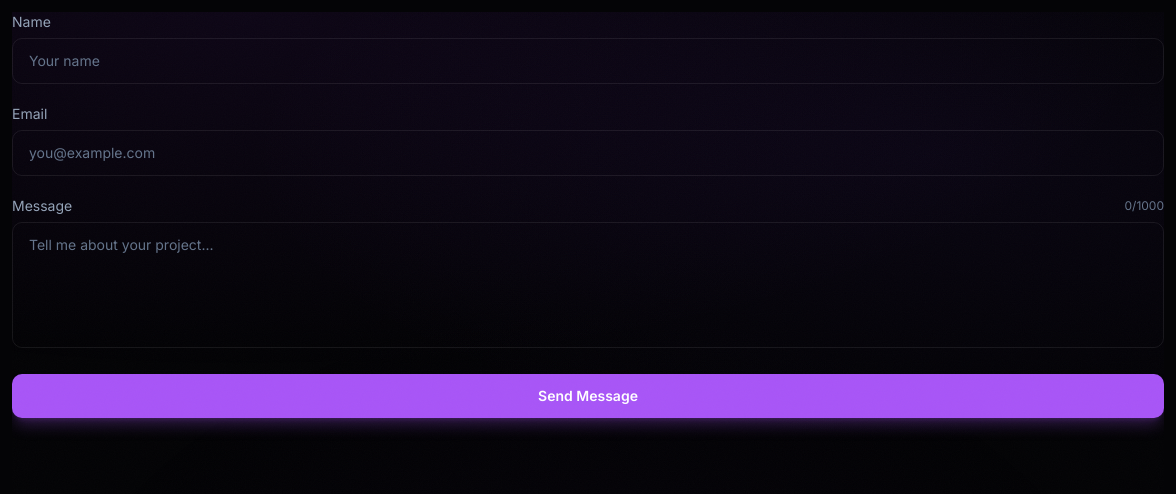
Test: ContactForm › shows validation error when email is empty on submit
The width and height of the screenshot is (1176, 494).
Type "Jane" into the field labelled "Name" at (588, 61), box [12,38,1164,84]
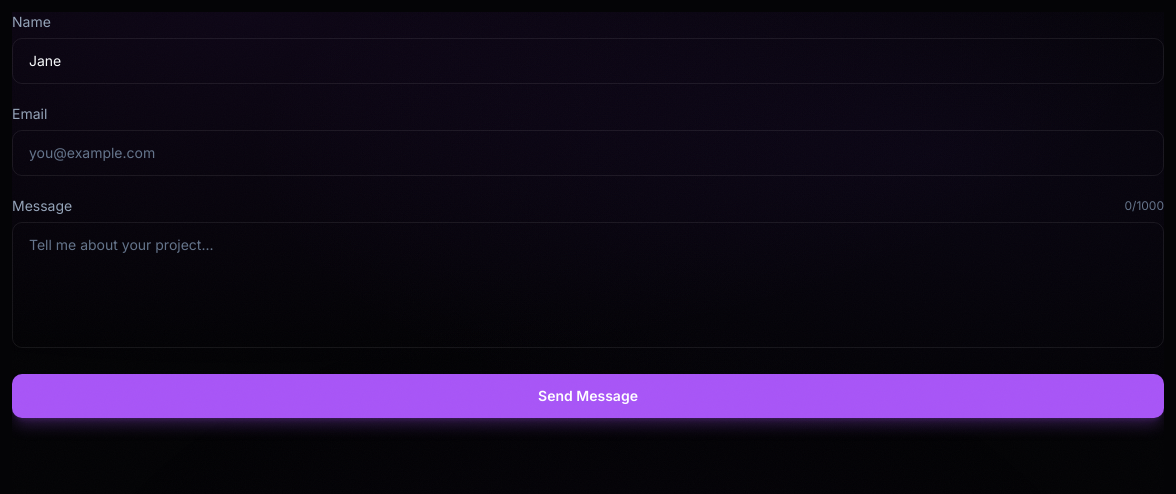
Click the button "Send Message" at (588, 396), box [12,374,1164,418]
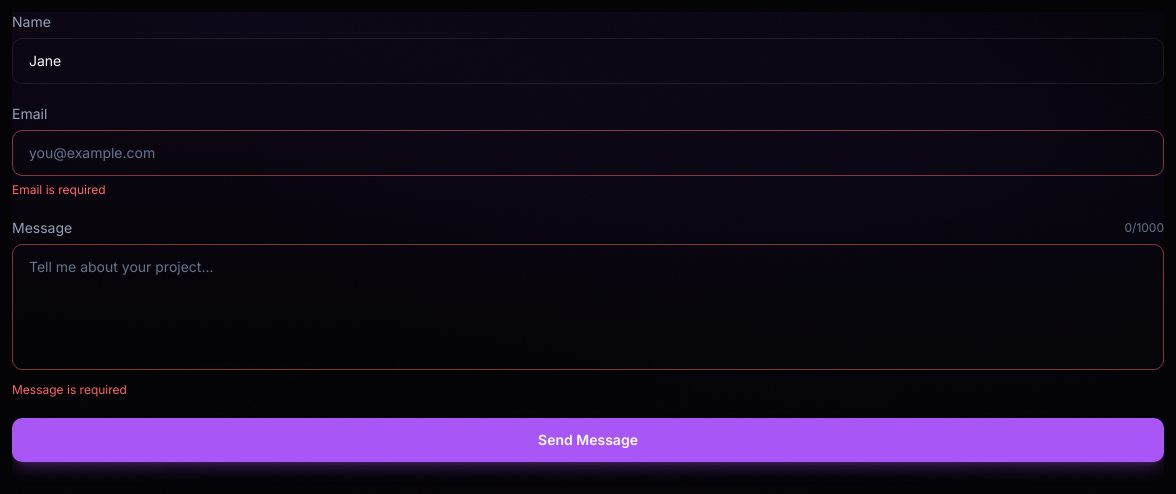
Expected: the text with test id "email-error" reads "Email is required", [12,182,106,197]
